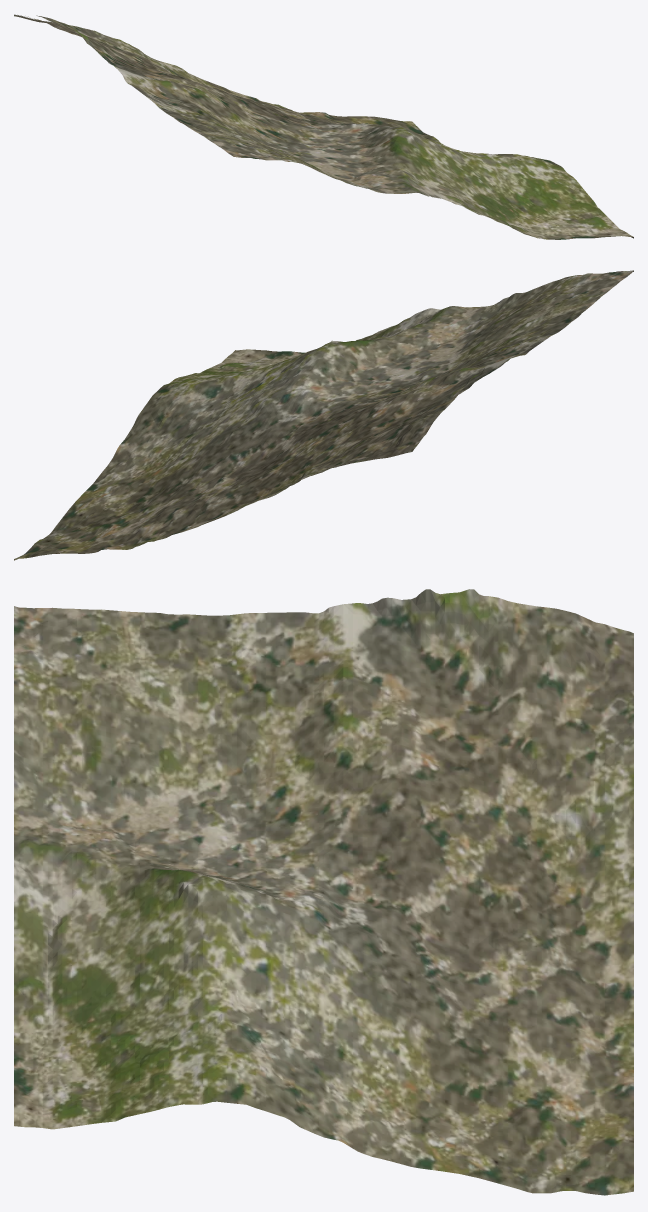
The picture shows the model from 3 angles, top to bottom: view 1: azimuth 30°, elevation 25°; view 2: azimuth 150°, elevation 25°; view 3: azimuth 270°, elevation 25°; orthographic projection. The views are drawn at different scales.
Bounding box in the file's own units: 250 × 144 × 241.
Materials: 1 (1 with a texture image).
